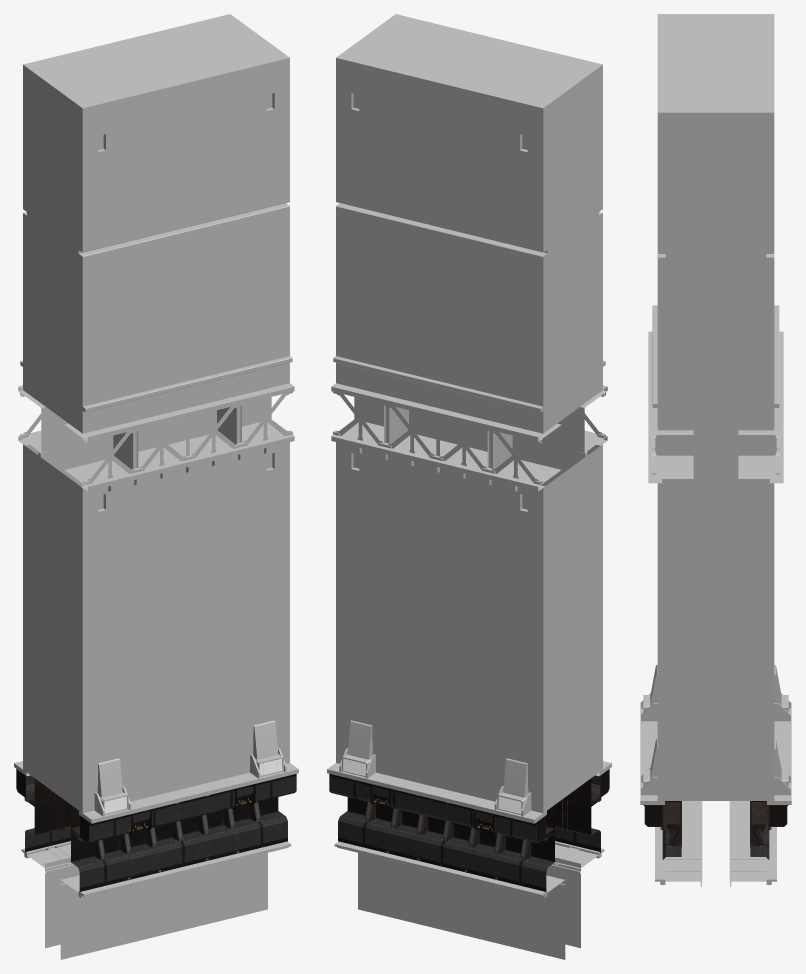
Rendered from Wall_Large_01_LOD1.fbx.
3 renders of one model, left to right at view 1: azimuth 30°, elevation 25°; view 2: azimuth 150°, elevation 25°; view 3: azimuth 270°, elevation 25°, orthographic. The views are drawn at different scales.
Visible parts, largest first — view 1: Concrete_Block, Element1, Element2, Element3; view 2: Concrete_Block, Element1, Element2, Element3; view 3: Concrete_Block, Element1, Element3, Element2.
Boxes of the visible parts, x1,y1,x2,y2 form: Concrete_Block: [20, 14, 292, 813]; Element1: [14, 720, 298, 959]; Element2: [16, 769, 296, 892]; Element3: [18, 383, 294, 492]; Concrete_Block: [333, 14, 605, 813]; Element1: [327, 720, 611, 959]; Element2: [329, 769, 609, 892]; Element3: [331, 383, 607, 492]; Concrete_Block: [652, 14, 779, 800]; Element1: [640, 664, 791, 886]; Element3: [648, 331, 783, 483]; Element2: [643, 801, 788, 859].
Size of the model in its own units: 804 by 3200 by 518.
